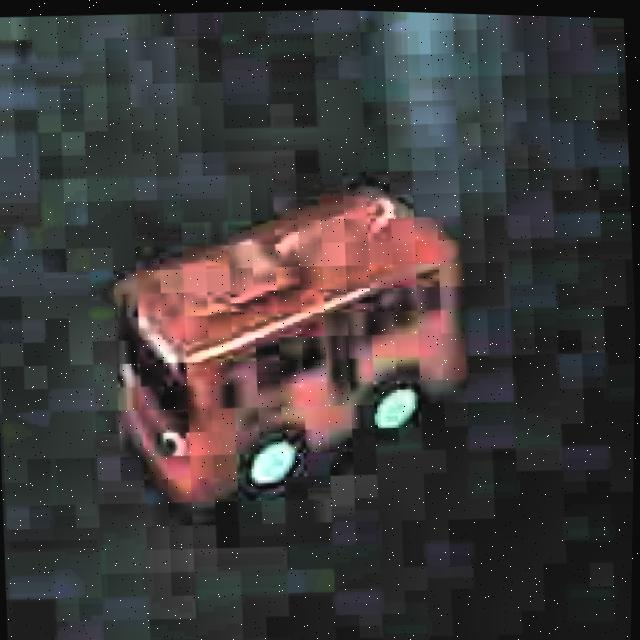bus: (90, 160, 489, 535)
